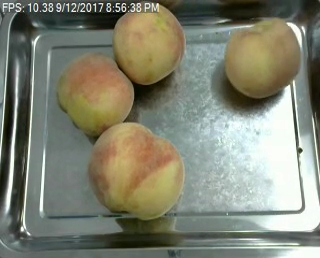Peach: (87, 122, 183, 220), (55, 50, 134, 135), (224, 19, 302, 97), (111, 3, 183, 85)
